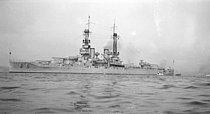MIL_Ship: (7, 28, 175, 76)
